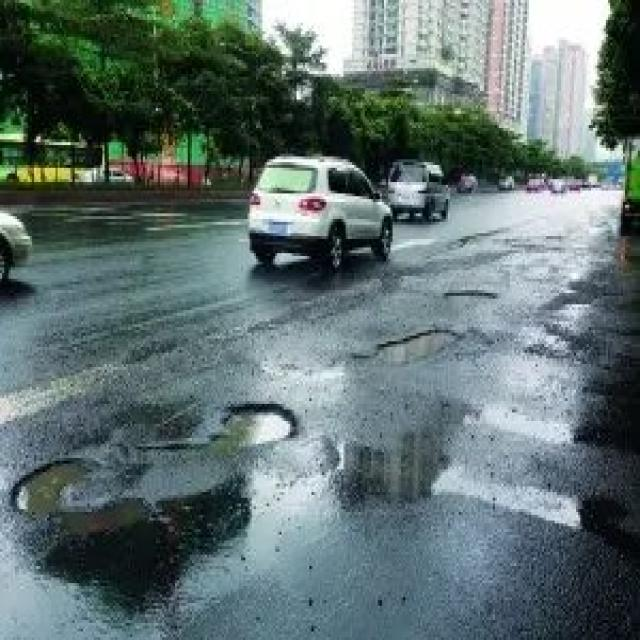Pothole: (4, 447, 158, 546), (192, 395, 309, 455), (356, 313, 467, 364), (442, 282, 497, 307)
